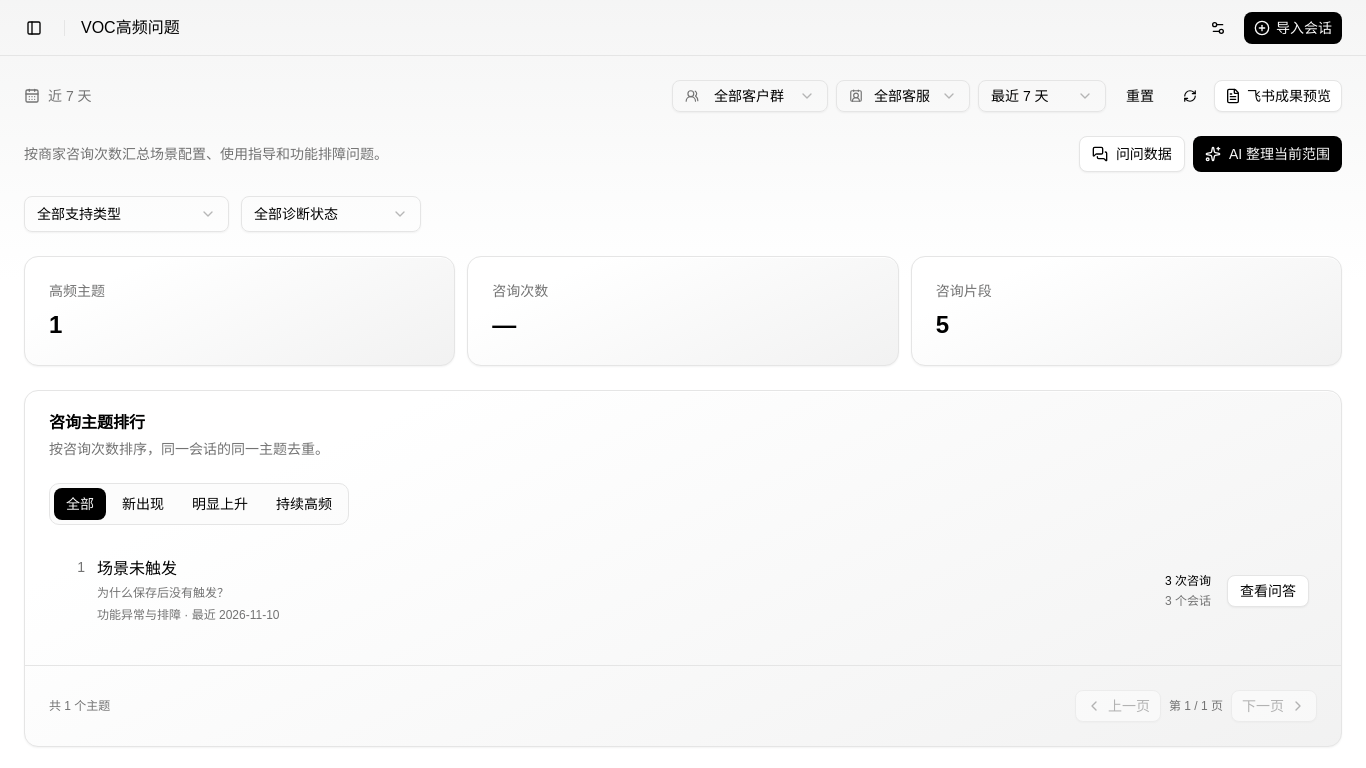
Test case: VOC navigation › opens the complete source session from high-frequency ranking with the exact evidence anchored
expect the heading "VOC高频问题" is shown: met, box [81, 16, 180, 40]
expect the heading "咨询主题排行" is shown: met, box [49, 414, 145, 431]
Click the button with aria-label "查看问答 · 场景未触发": (1268, 591) [1227, 575, 1309, 607]
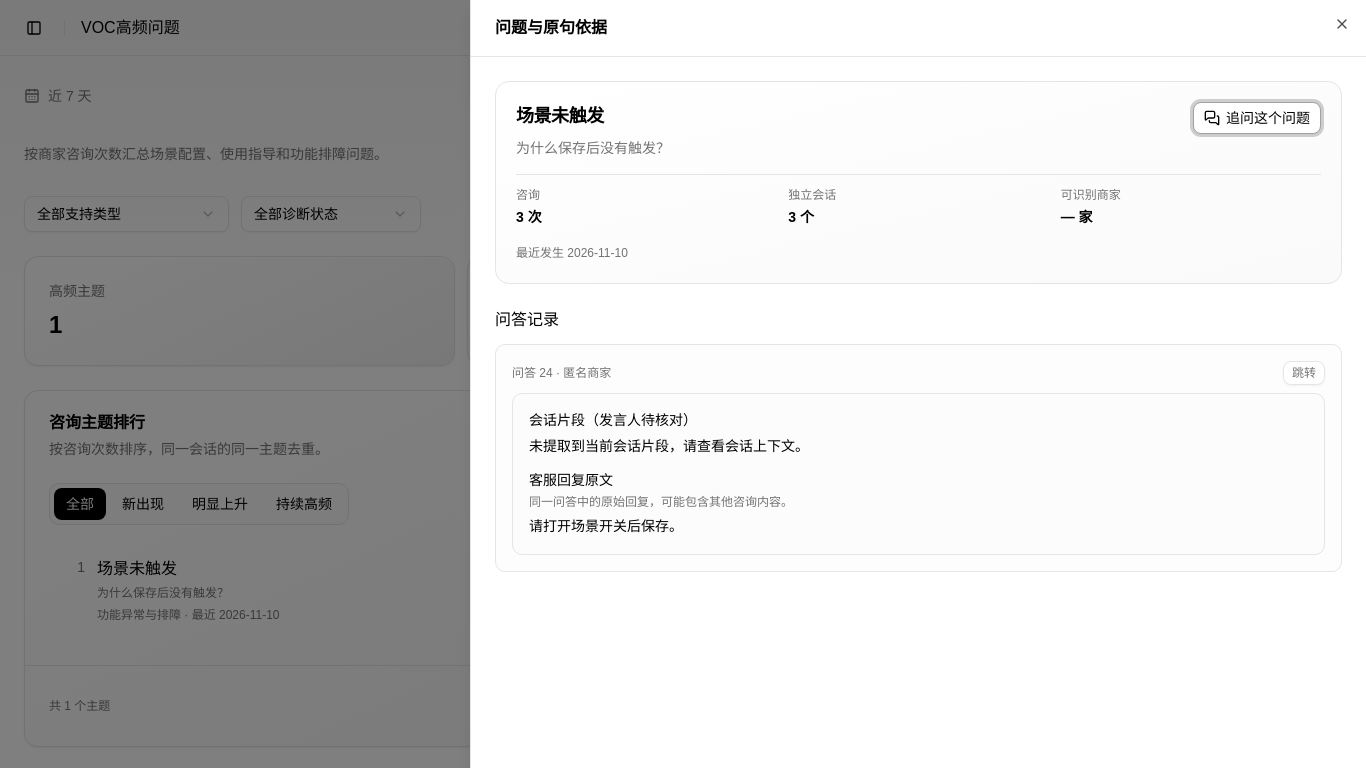
expect the text "请打开场景开关后保存。" is shown: met, box [529, 518, 683, 534]
Click the button with aria-label "跳转到会话上下文": (1304, 373) [1283, 361, 1325, 385]
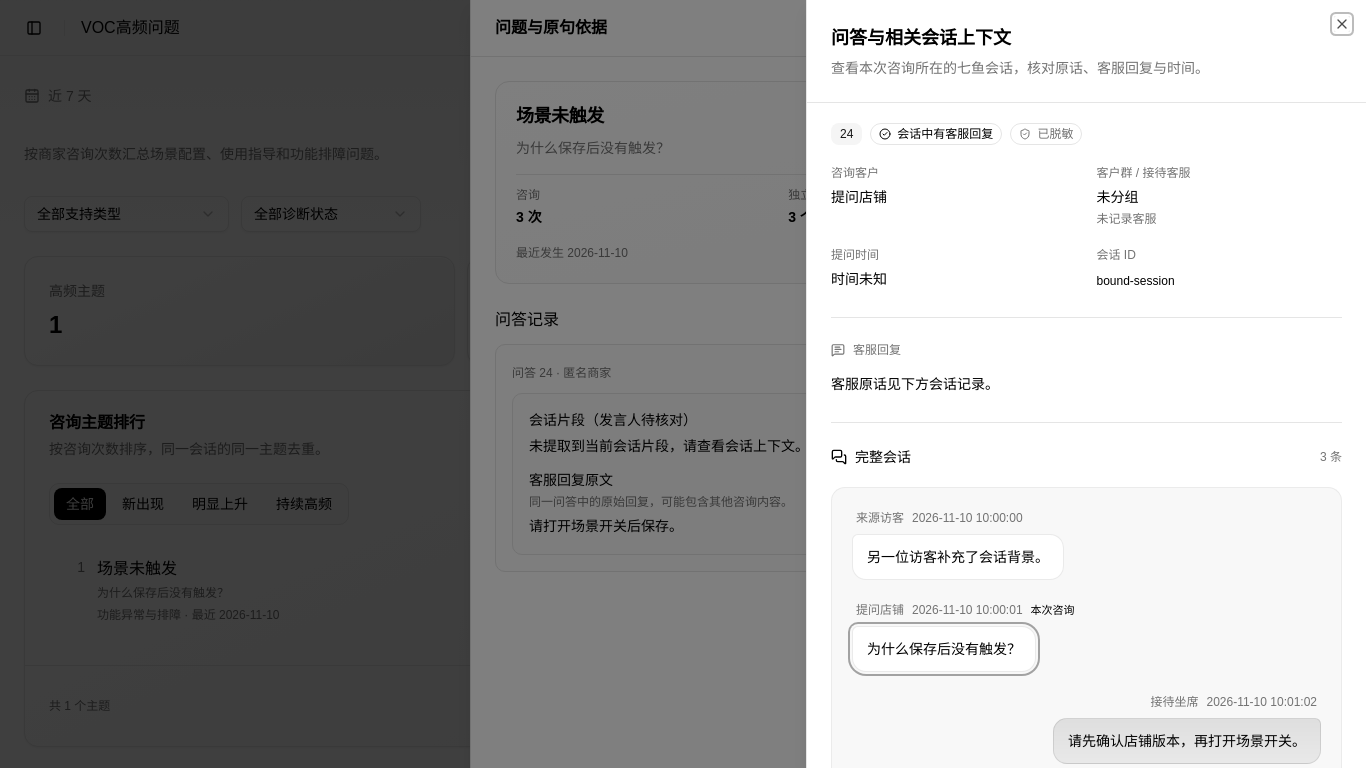
expect the heading "完整会话 3 条" is shown: met, box [831, 447, 1342, 467]
expect the number of list items is 3: met, box [852, 511, 1064, 580]; [852, 603, 1075, 672]; [1053, 695, 1321, 764]
expect the text "来源访客" is shown: met, box [856, 508, 904, 528]
